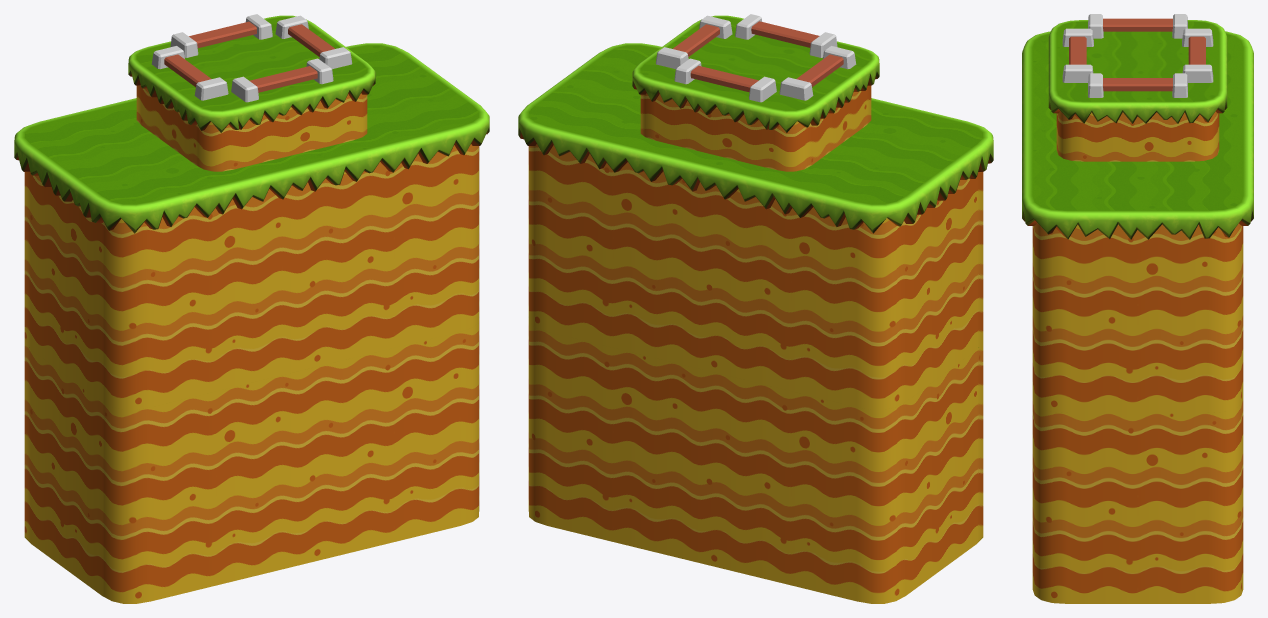
File: SU_Pedestal.FBX
3 renders of one model, left to right at view 1: azimuth 30°, elevation 25°; view 2: azimuth 150°, elevation 25°; view 3: azimuth 270°, elevation 25°, orthographic.
Visible parts, largest first — view 1: g_pedestal01; view 2: g_pedestal01; view 3: g_pedestal01.
Boxes of the visible parts, left/top/right/bottom form: g_pedestal01: left=14, top=14, right=489, bottom=603; g_pedestal01: left=518, top=14, right=993, bottom=603; g_pedestal01: left=1022, top=14, right=1253, bottom=603.
Bounding box in the file's own units: 12.59 × 14.63 × 6.59.
